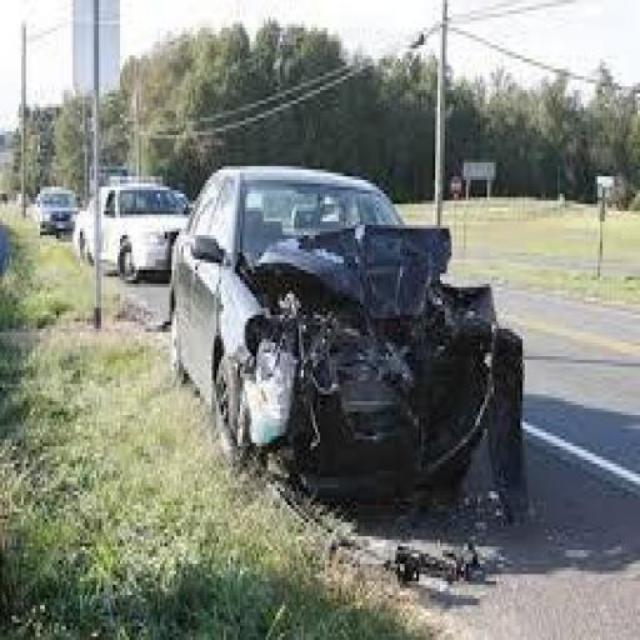crash: (223, 233, 528, 525)
